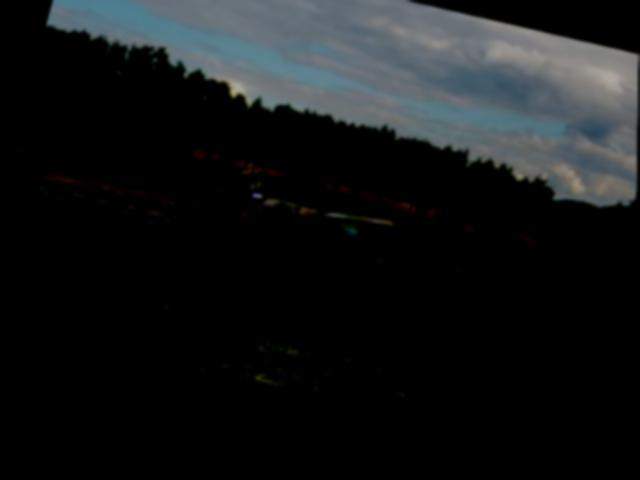uav: (193, 153, 406, 288)
